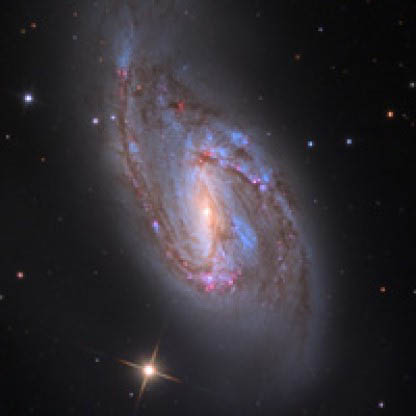Messier 66: (90, 42, 328, 399)
